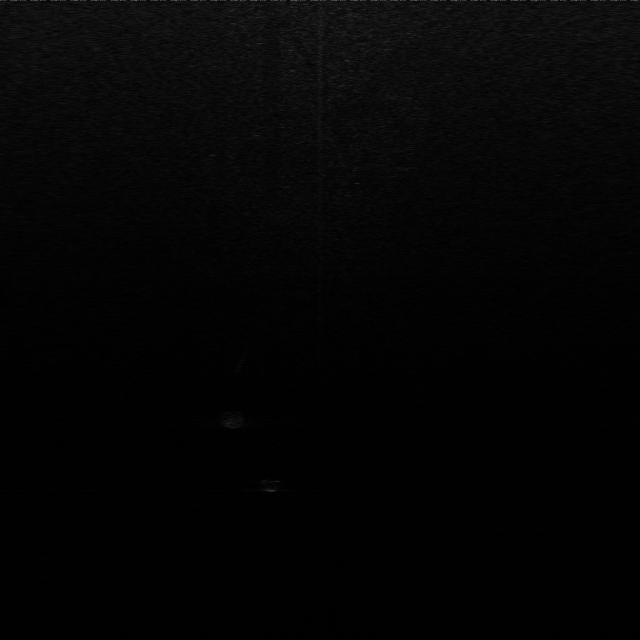ball: (216, 408, 248, 434)
circle cage: (253, 470, 288, 498)
